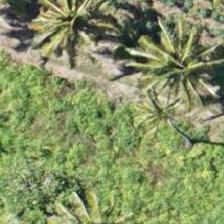Kelapa_Sawit: (112, 66, 202, 156), (131, 7, 221, 97), (16, 0, 106, 70)
